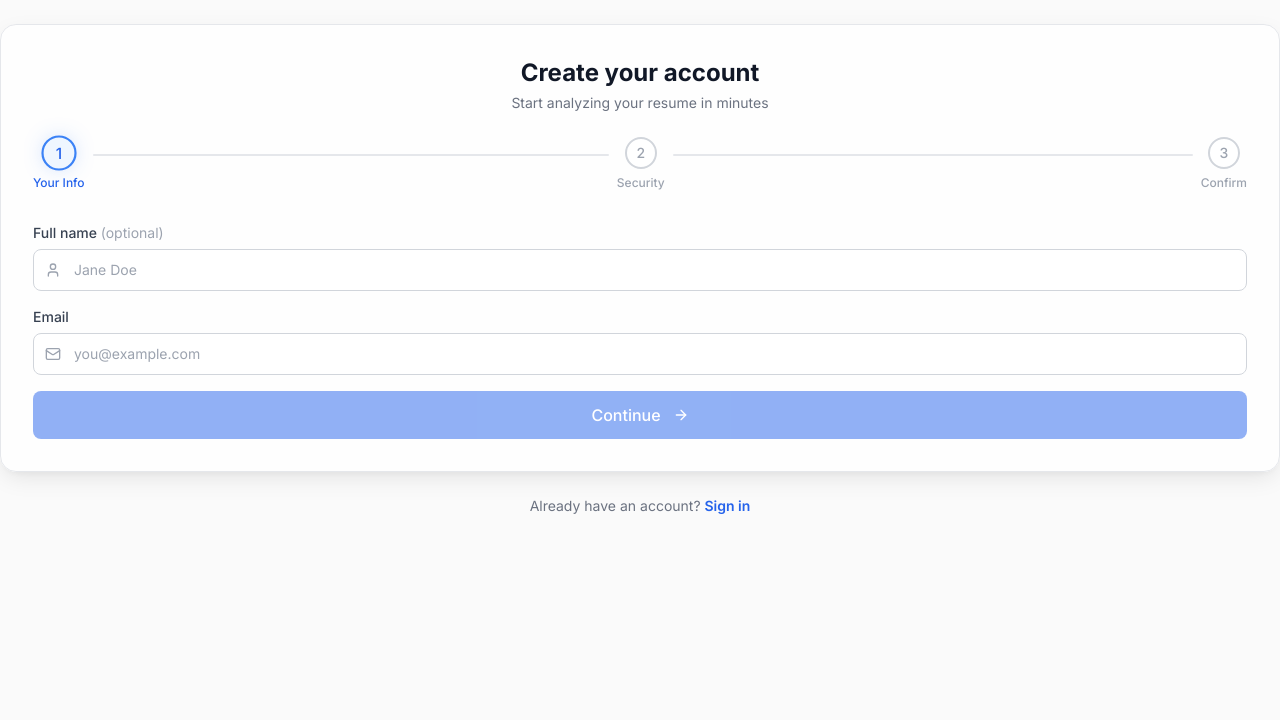
Test: RegisterPage › shows password strength meter on step 2
// Go to step 2
Type "test@example.com" into the field with placeholder "you@example.com" at x=640, y=354, box 33,333 -> 1247,375
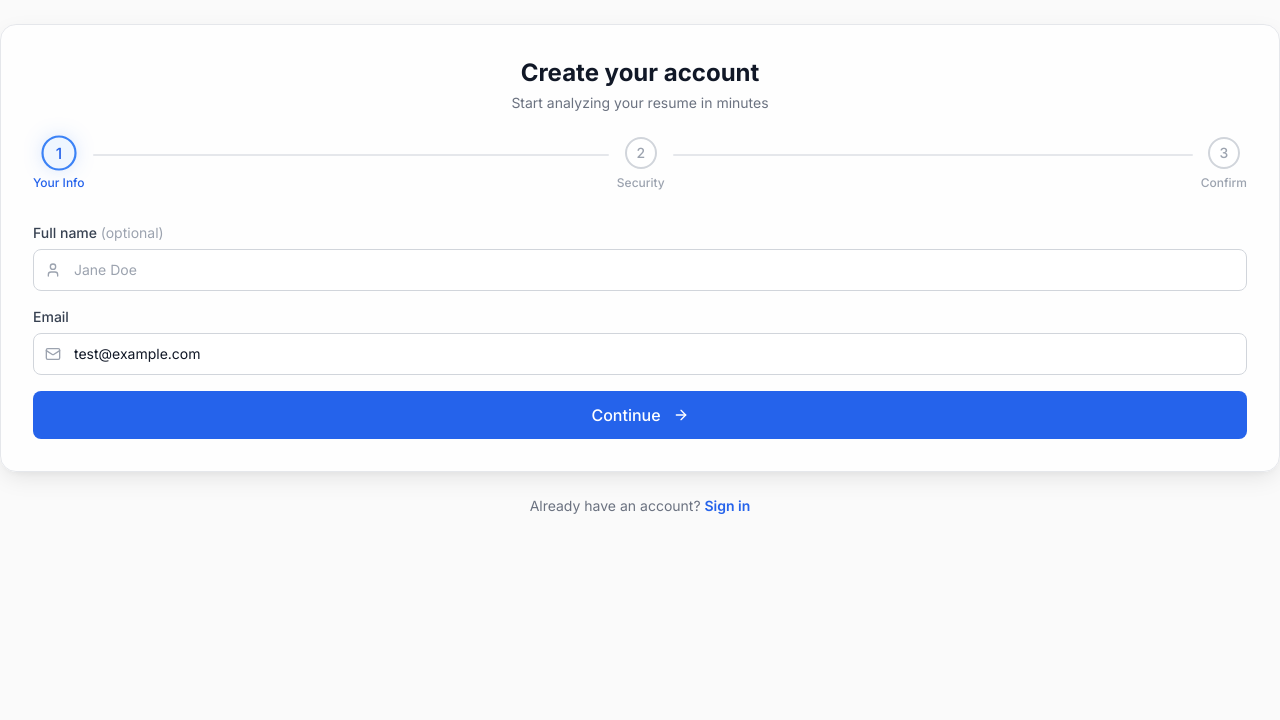
Click the button "Continue" at x=640, y=415, box 33,391 -> 1247,439
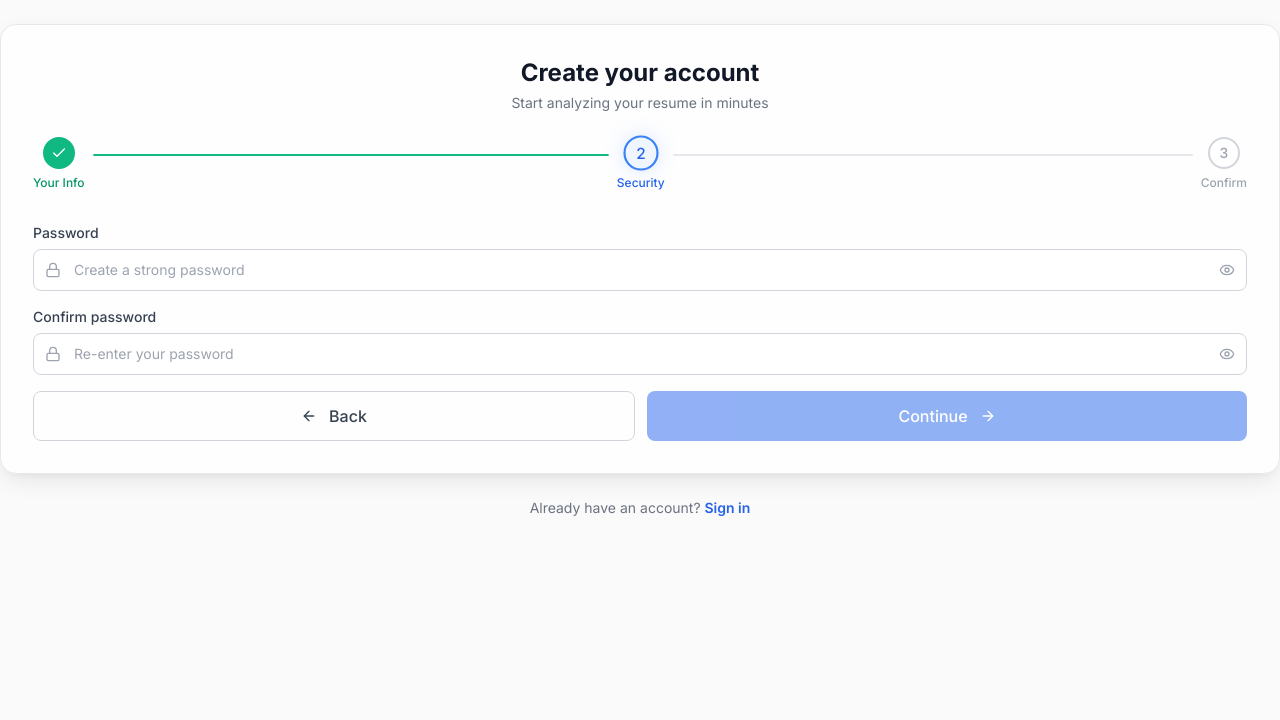
// Type a password to trigger the strength meter
Type "Test1" into the password field with placeholder "Create a strong password" at x=640, y=270, box 33,249 -> 1247,291
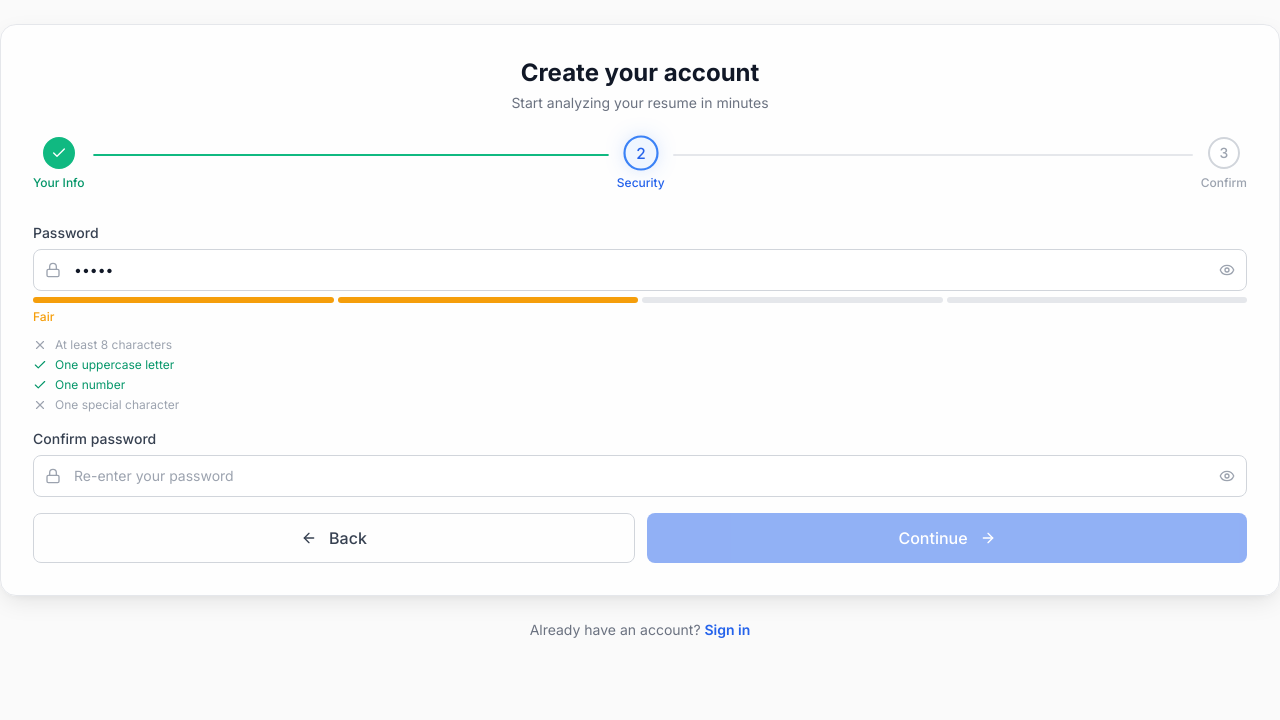
Check: the list item "At least 8 characters" is shown, box 33,337 -> 172,352
Check: the list item "One uppercase letter" is shown, box 33,357 -> 174,372
Check: the list item "One number" is shown, box 33,377 -> 125,392
